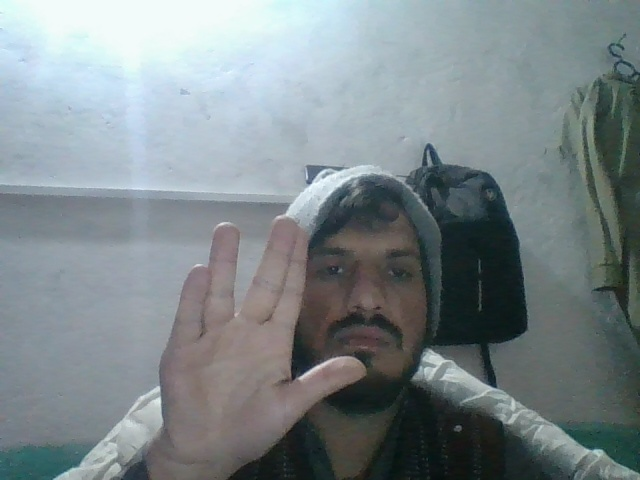LiveLong: (156, 213, 366, 462)
